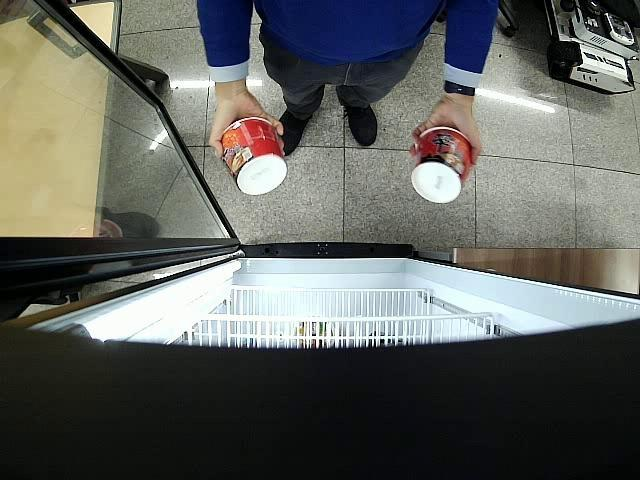01_ShinRamen_L: (222, 118, 288, 195), (412, 128, 474, 204)
